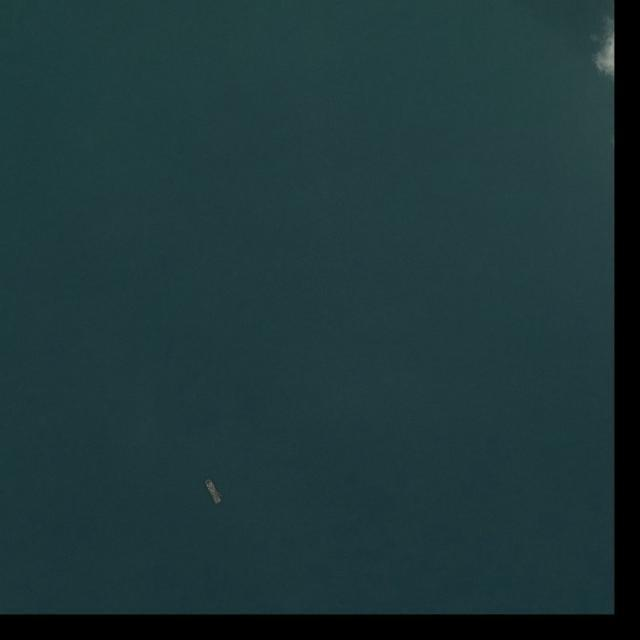ship: (204, 478, 223, 505)
